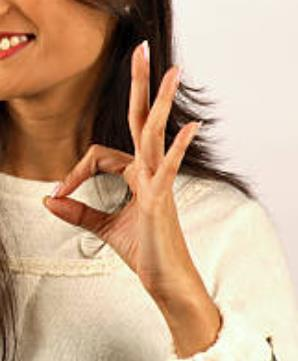left: (38, 38, 213, 253)
